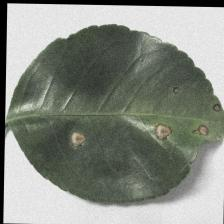canker: (60, 82, 222, 152)
